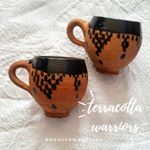cups: (7, 52, 91, 124), (66, 12, 147, 80)
